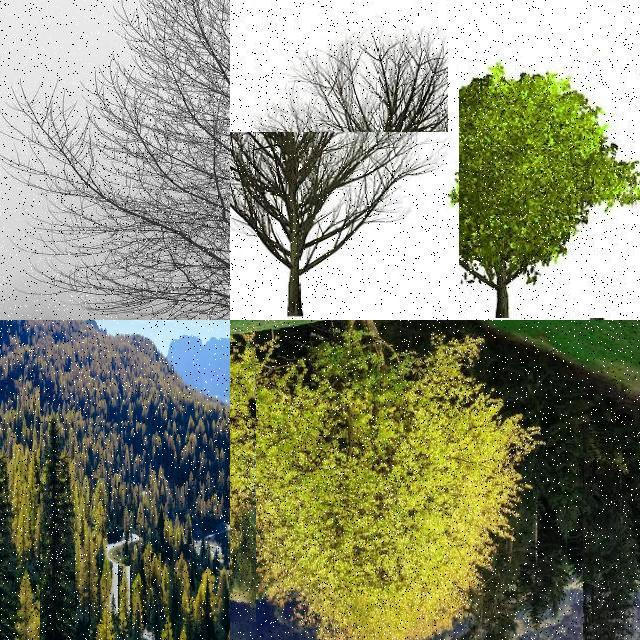tree: (230, 320, 534, 640), (0, 0, 230, 320), (230, 7, 440, 310), (459, 56, 640, 318), (230, 0, 448, 132), (467, 0, 640, 138), (524, 381, 614, 545), (583, 422, 640, 640), (27, 400, 75, 640), (0, 380, 40, 640), (230, 346, 256, 622), (230, 364, 266, 556), (0, 483, 27, 640), (0, 492, 18, 640), (0, 560, 24, 640), (92, 567, 115, 640), (81, 524, 99, 604), (230, 342, 250, 406), (8, 492, 24, 556), (0, 491, 12, 561), (92, 478, 106, 538), (118, 566, 130, 634), (161, 558, 175, 614), (130, 573, 144, 629), (0, 387, 8, 463), (100, 555, 112, 605), (218, 564, 230, 614), (177, 561, 191, 603), (203, 576, 213, 634), (194, 582, 206, 630), (0, 414, 8, 478), (0, 447, 8, 507), (142, 540, 154, 580), (0, 488, 8, 544), (0, 364, 8, 420), (1, 411, 8, 465), (1, 382, 8, 432), (151, 553, 161, 587), (1, 365, 8, 411), (0, 458, 8, 498), (82, 474, 90, 510), (150, 495, 158, 529), (175, 486, 185, 512), (214, 624, 230, 640), (184, 514, 192, 544), (173, 514, 180, 548), (176, 626, 192, 640), (164, 518, 172, 546), (136, 502, 144, 528), (131, 484, 139, 508), (182, 590, 190, 614), (146, 586, 154, 610), (118, 482, 126, 506), (123, 504, 129, 534), (0, 430, 4, 474), (123, 531, 129, 557), (79, 495, 85, 521), (111, 486, 117, 512), (200, 494, 206, 518), (218, 468, 224, 486), (188, 470, 194, 486), (156, 528, 160, 550), (202, 533, 206, 555), (206, 470, 210, 492), (130, 511, 134, 532), (0, 363, 4, 383), (154, 534, 158, 554), (180, 522, 184, 542), (196, 490, 200, 510), (0, 320, 6, 332), (144, 516, 148, 532), (218, 502, 222, 518), (220, 446, 224, 462), (133, 544, 137, 558), (184, 480, 188, 494), (206, 498, 210, 512), (214, 504, 218, 518), (213, 492, 217, 504), (148, 525, 152, 535), (228, 521, 230, 541)
